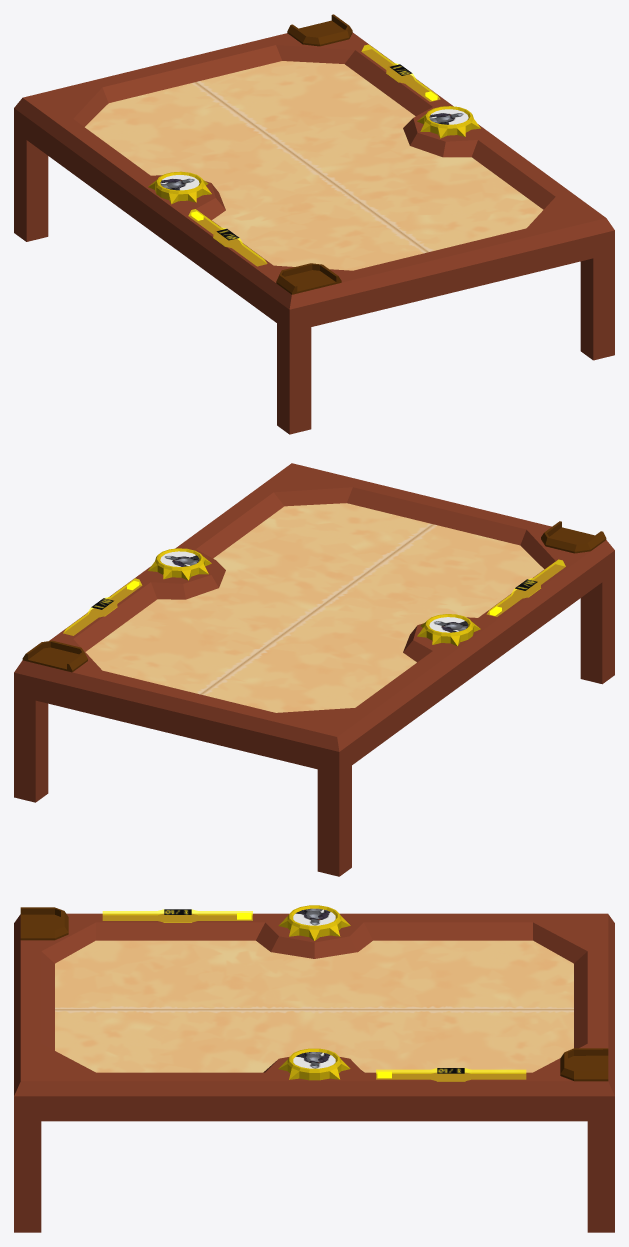
Rendered from game_table.glb.
3 renders of one model, top to bottom at view 1: azimuth 30°, elevation 25°; view 2: azimuth 150°, elevation 25°; view 3: azimuth 270°, elevation 25°, orthographic. The views are drawn at different scales.
Parts seen in each view (by area): view 1: table, elevation, emblem_1, deck_slot_back, emblem_2, deck_slot_front, mana_bar_back, mana_bar_front; view 2: table, elevation, emblem_1, emblem_2, deck_slot_front, deck_slot_back, mana_bar_back, mana_bar_front; view 3: table, elevation, mana_bar_front, emblem_2, emblem_1, mana_bar_back, deck_slot_back, deck_slot_front.
Boxes of the visible parts, bbox=[...] form: table: bbox=[14, 61, 614, 434]; elevation: bbox=[14, 32, 614, 309]; emblem_1: bbox=[417, 106, 480, 138]; deck_slot_back: bbox=[276, 263, 341, 294]; emblem_2: bbox=[148, 171, 211, 204]; deck_slot_front: bbox=[287, 14, 352, 46]; mana_bar_back: bbox=[188, 209, 267, 266]; mana_bar_front: bbox=[361, 44, 440, 101]; table: bbox=[14, 503, 614, 876]; elevation: bbox=[14, 463, 614, 751]; emblem_1: bbox=[148, 548, 211, 580]; emblem_2: bbox=[417, 614, 480, 646]; deck_slot_front: bbox=[22, 640, 87, 672]; deck_slot_back: bbox=[541, 521, 606, 553]; mana_bar_back: bbox=[487, 559, 565, 616]; mana_bar_front: bbox=[63, 578, 141, 635]; table: bbox=[14, 940, 614, 1232]; elevation: bbox=[14, 913, 614, 1096]; mana_bar_front: bbox=[376, 1068, 526, 1081]; emblem_2: bbox=[278, 905, 350, 940]; emblem_1: bbox=[278, 1048, 350, 1080]; mana_bar_back: bbox=[102, 909, 252, 922]; deck_slot_back: bbox=[20, 907, 68, 940]; deck_slot_front: bbox=[560, 1048, 608, 1081].
Size of the model in its own units: 30 by 12.82 by 44.
15 materials, 9 textured.
